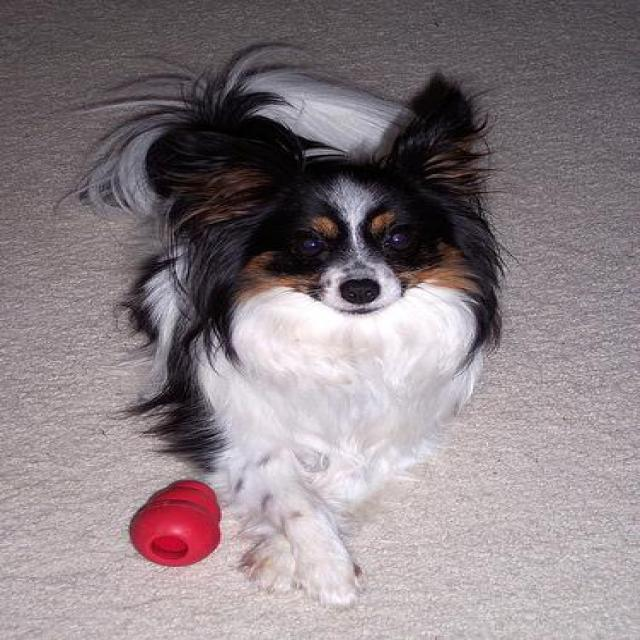papillon: (54, 39, 503, 610)
